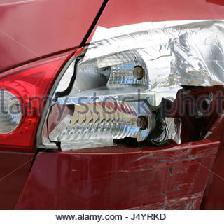tail_lamp: (35, 20, 224, 186)
